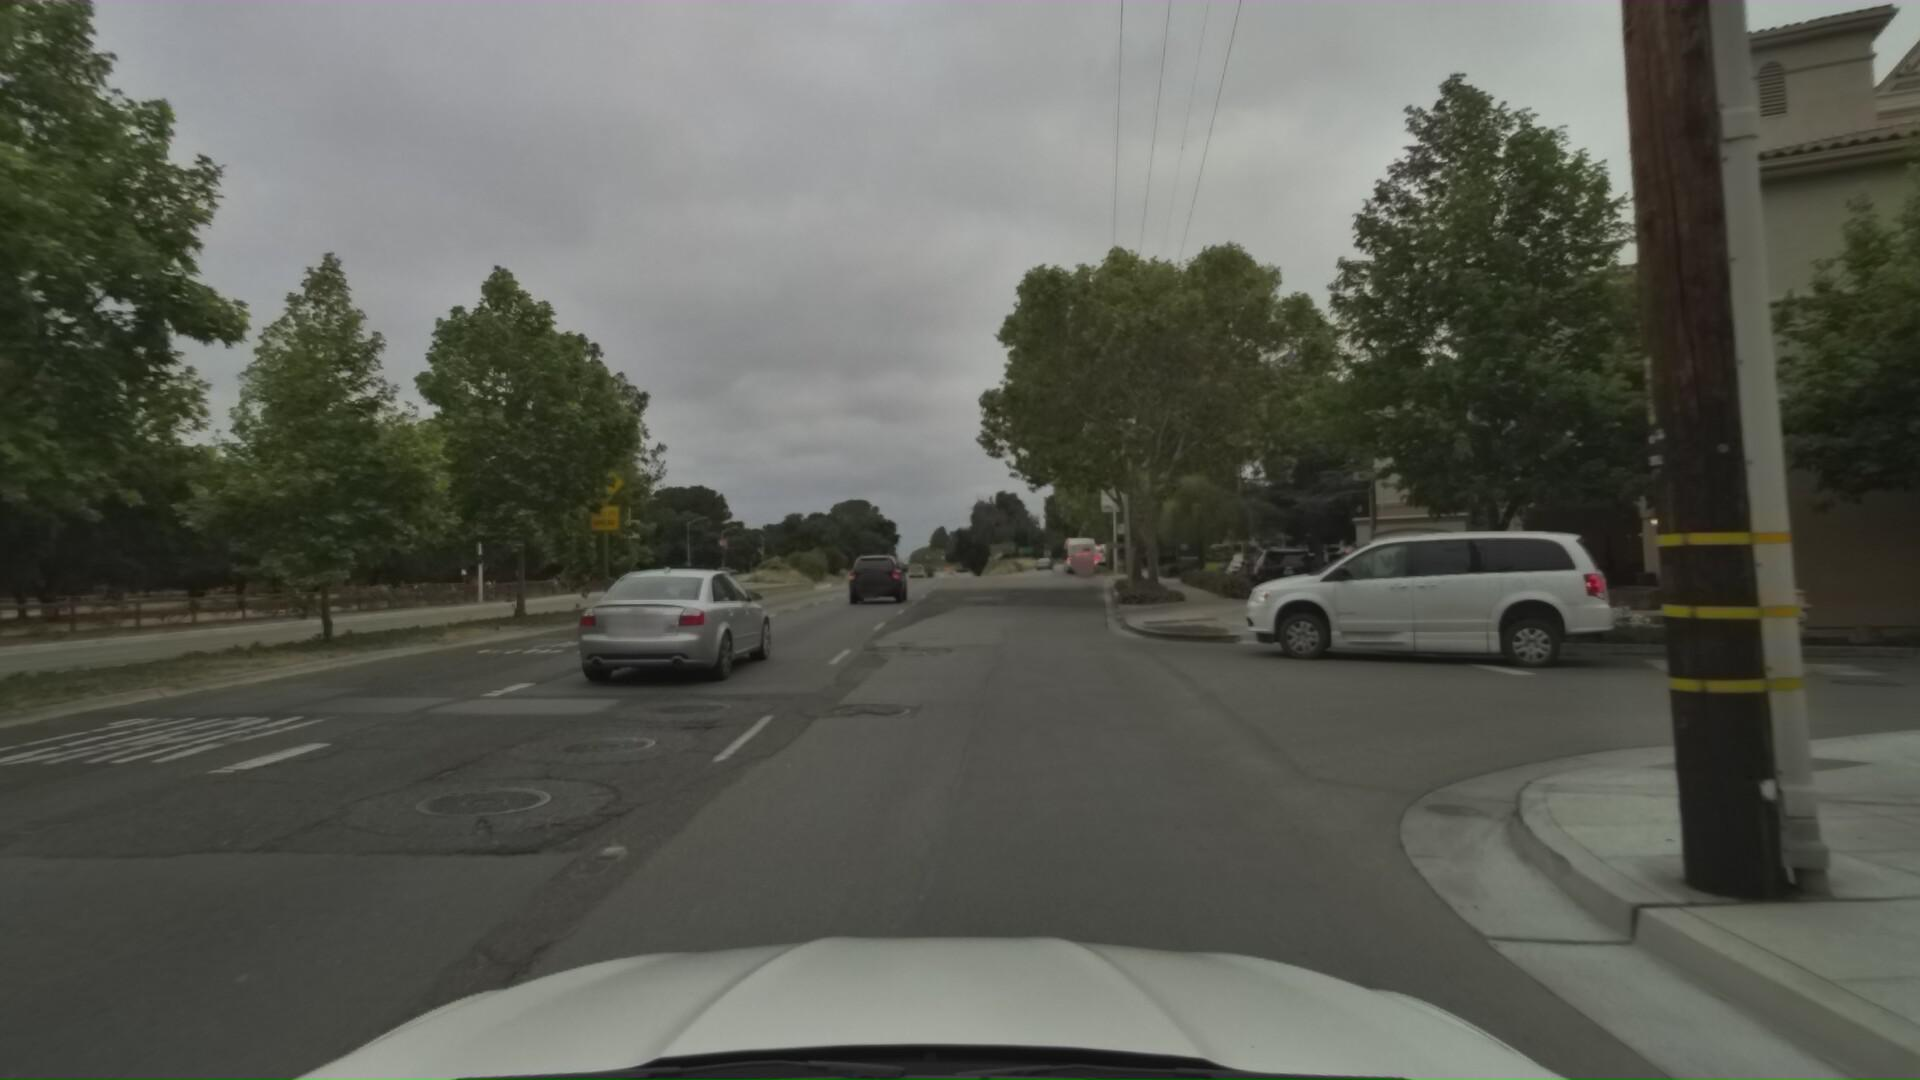car: (1232, 506, 1644, 662), (550, 518, 793, 680), (1236, 535, 1324, 592), (841, 535, 911, 597), (1230, 549, 1288, 587), (1215, 549, 1269, 578)
